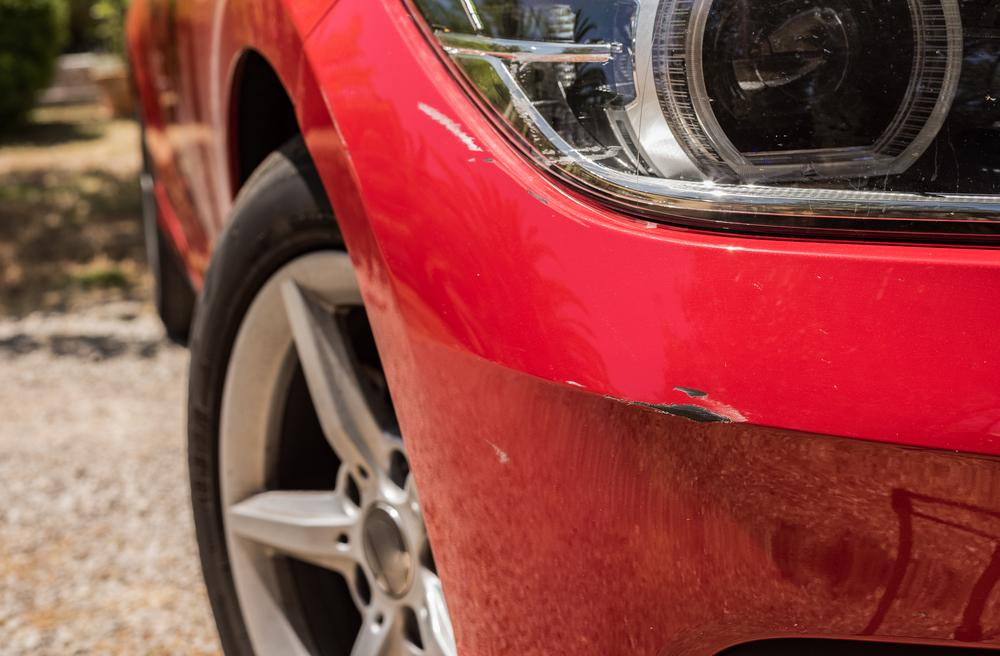scratch: (417, 95, 564, 213), (601, 381, 750, 429)
